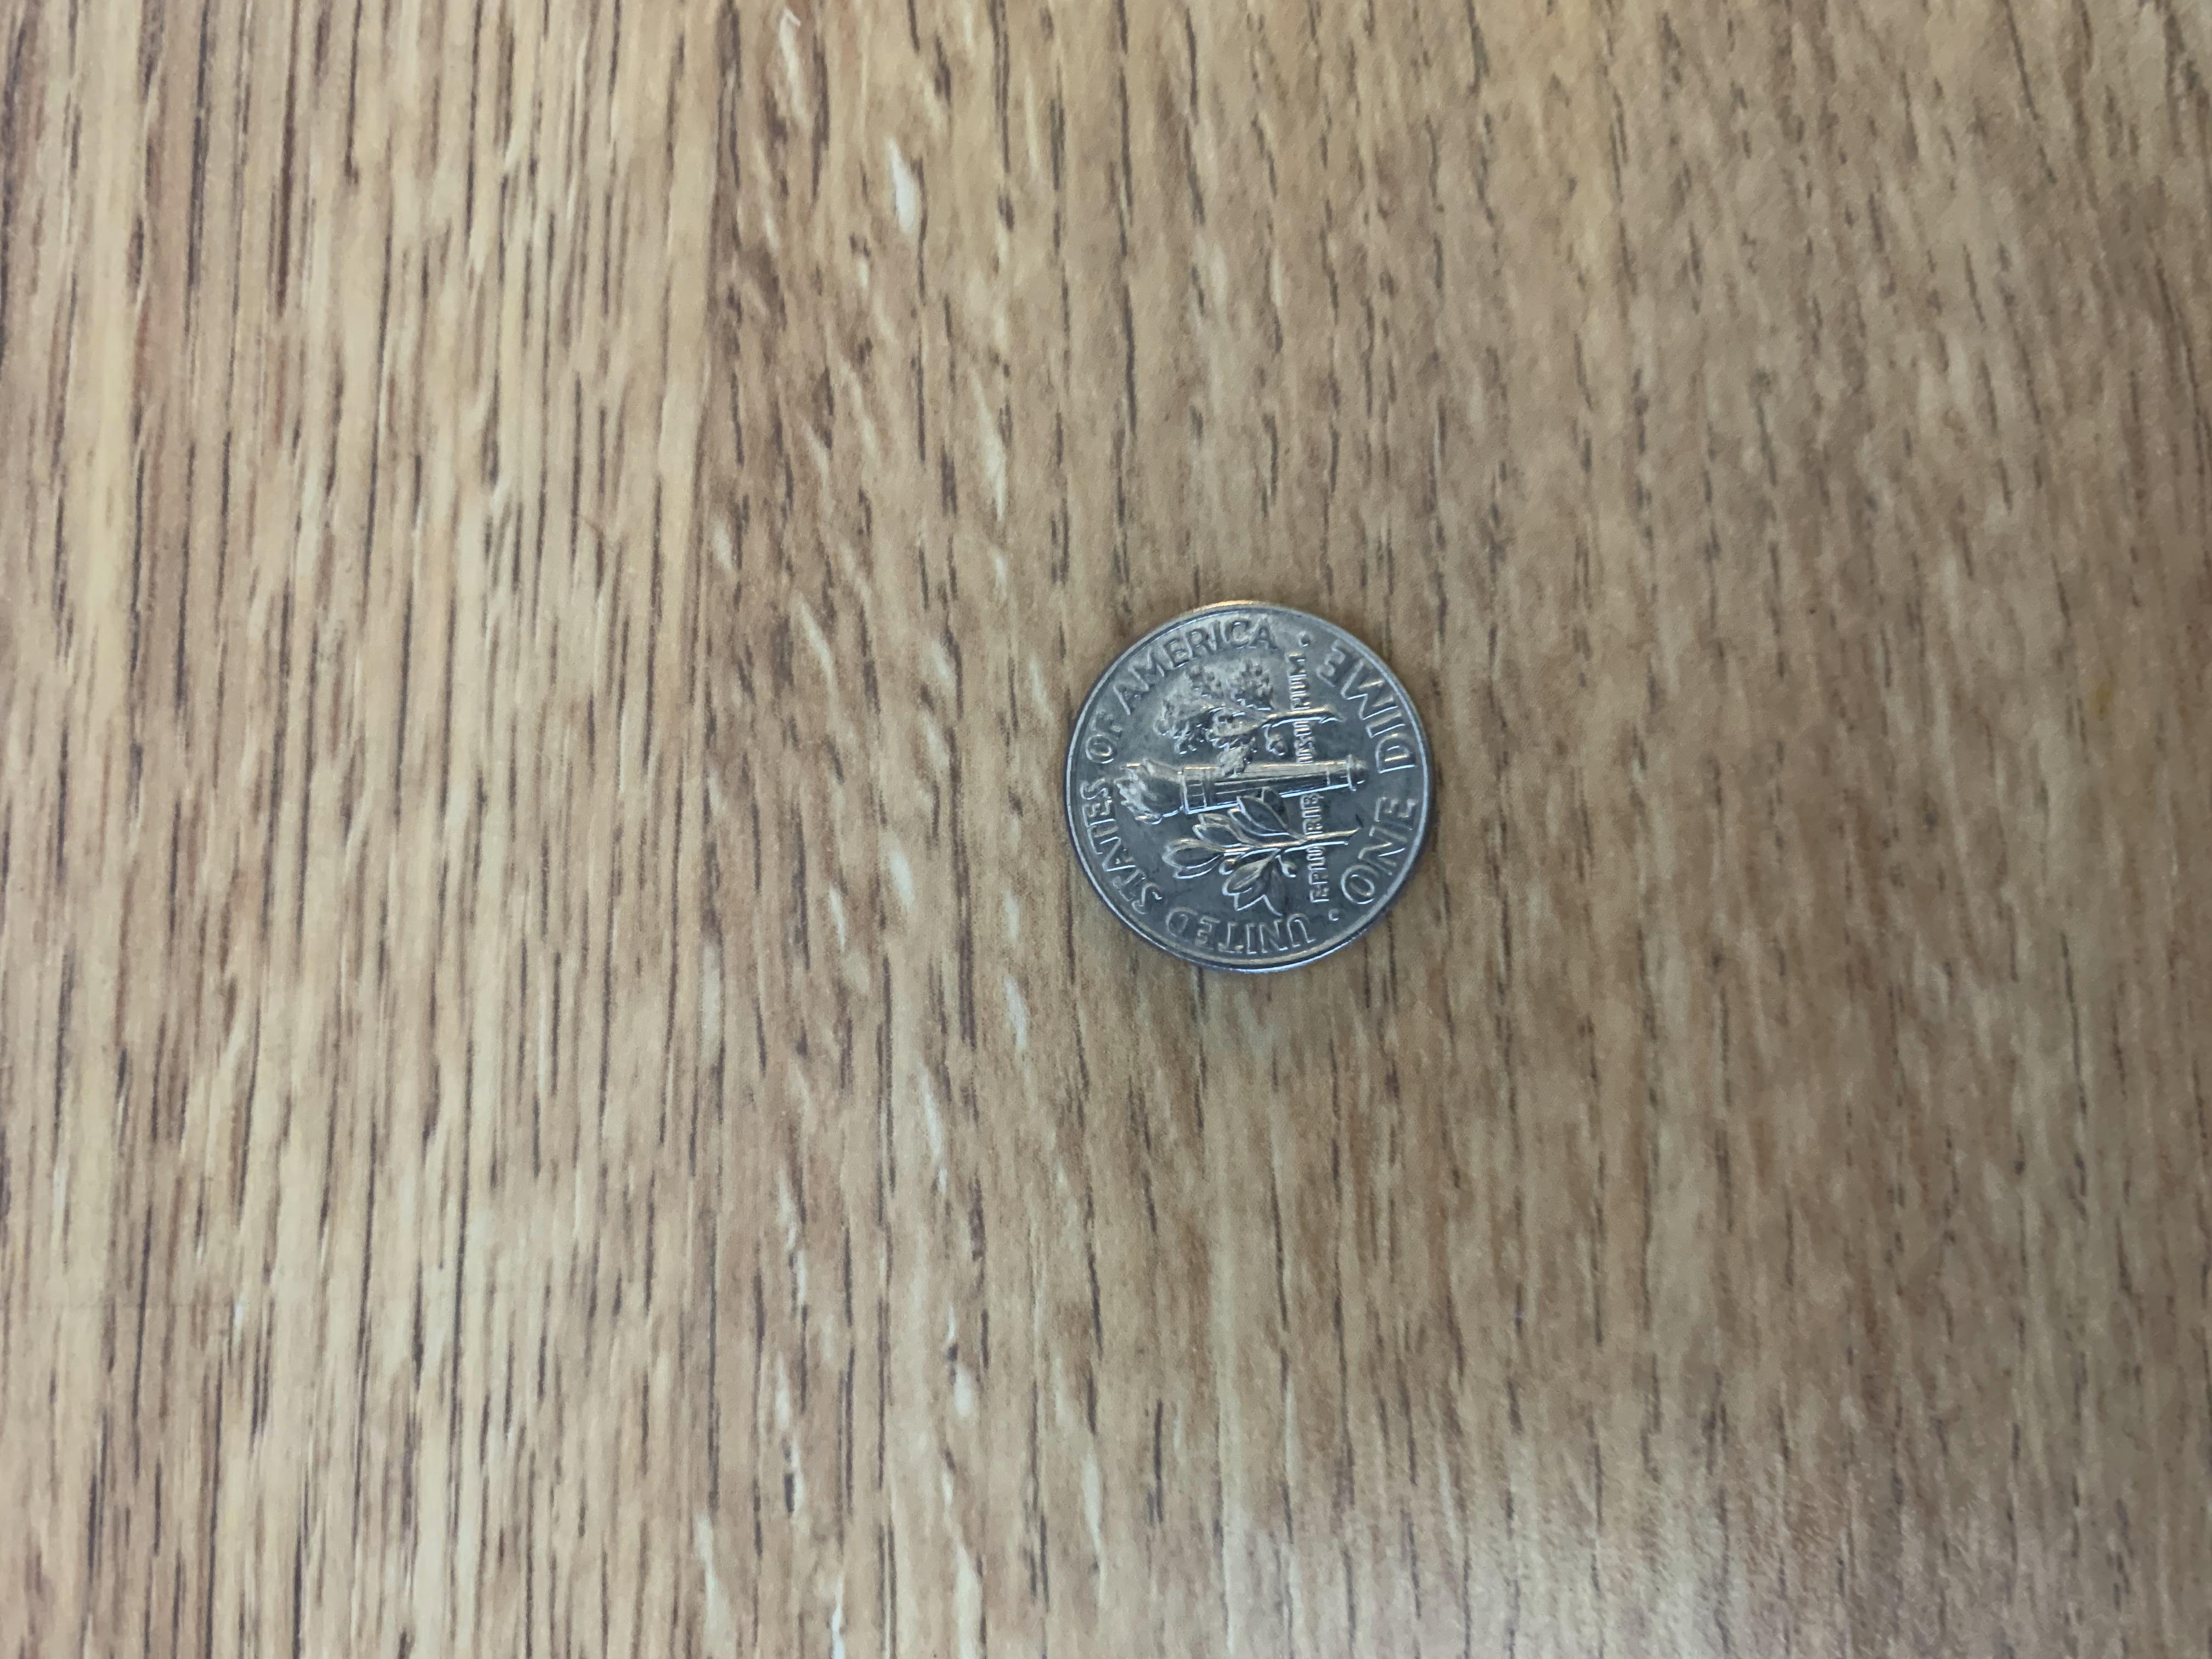Dime: (1052, 587, 1444, 983)
